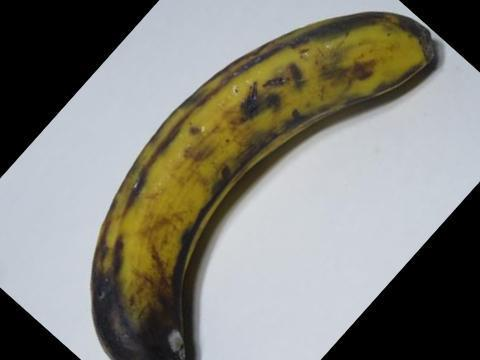overripe: (78, 0, 456, 359)
rotten: (91, 247, 246, 359)
